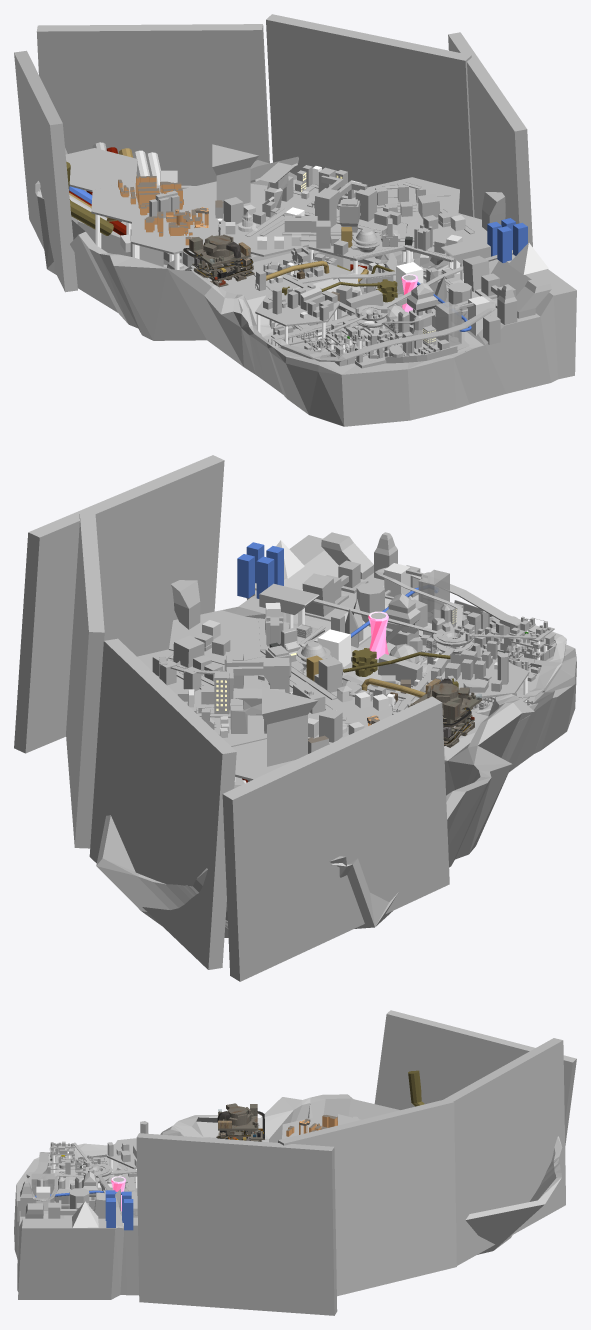
The model's file is megacity3.gltf.
3 renders of one model, top to bottom at view 1: azimuth 30°, elevation 25°; view 2: azimuth 150°, elevation 25°; view 3: azimuth 270°, elevation 25°, orthographic. The views are drawn at different scales.
Parts seen in each view (by area): view 1: Cube.330, Cube.627, Cube.061, Cube.628, Cube.062, citybase, Cylinder.085, Cylinder.099, Cylinder.054, Cylinder.053, Cylinder.083, Cylinder.055 (+24 smaller); view 2: Cube.628, Cube.062, Cube.627, Cube.330, Cube.061, Cylinder.099, Cylinder.038, citybase, Cube.492, Cylinder.056, Cylinder.053, Cylinder.103 (+21 smaller); view 3: Cube.062, Cube.061, Cube.330, Cube.627, Cube.628, citybase, Cone.001, Cube.328, Cube.359, Cylinder.108, Cylinder.030, Cylinder.054.
Part boxes in pixels (bbox=[...]): Cube.330: bbox=[35, 148, 576, 426]; Cube.627: bbox=[36, 24, 269, 185]; Cube.061: bbox=[266, 14, 474, 217]; Cube.628: bbox=[14, 50, 77, 292]; Cube.062: bbox=[448, 32, 532, 246]; citybase: bbox=[183, 234, 254, 287]; Cylinder.085: bbox=[65, 148, 137, 191]; Cylinder.099: bbox=[212, 144, 258, 203]; Cylinder.054: bbox=[130, 211, 218, 254]; Cylinder.053: bbox=[220, 214, 309, 256]; Cylinder.083: bbox=[91, 180, 161, 223]; Cylinder.055: bbox=[367, 177, 459, 225]; Cube.628: bbox=[222, 696, 449, 981]; Cube.062: bbox=[14, 455, 224, 753]; Cube.627: bbox=[89, 638, 236, 969]; Cube.330: bbox=[96, 535, 576, 937]; Cube.061: bbox=[66, 512, 104, 848]; Cylinder.099: bbox=[262, 687, 317, 766]; Cylinder.038: bbox=[169, 607, 289, 664]; citybase: bbox=[408, 678, 481, 747]; Cube.492: bbox=[226, 653, 289, 703]; Cylinder.056: bbox=[232, 739, 294, 780]; Cylinder.053: bbox=[308, 693, 392, 744]; Cylinder.103: bbox=[170, 580, 200, 629]; Cube.062: bbox=[136, 1133, 337, 1315]; Cube.061: bbox=[278, 1098, 456, 1296]; Cube.330: bbox=[14, 1094, 562, 1299]; Cube.627: bbox=[443, 1038, 565, 1265]; Cube.628: bbox=[374, 1010, 576, 1145]; citybase: bbox=[216, 1103, 264, 1141]; Cone.001: bbox=[72, 1201, 98, 1227]; Cube.328: bbox=[31, 1173, 54, 1203]; Cube.359: bbox=[73, 1142, 123, 1228]; Cylinder.108: bbox=[408, 1070, 424, 1106]; Cylinder.030: bbox=[107, 1138, 136, 1168]; Cylinder.054: bbox=[282, 1115, 322, 1138].
Size of the model in its own units: 1940 by 989 by 2752.
